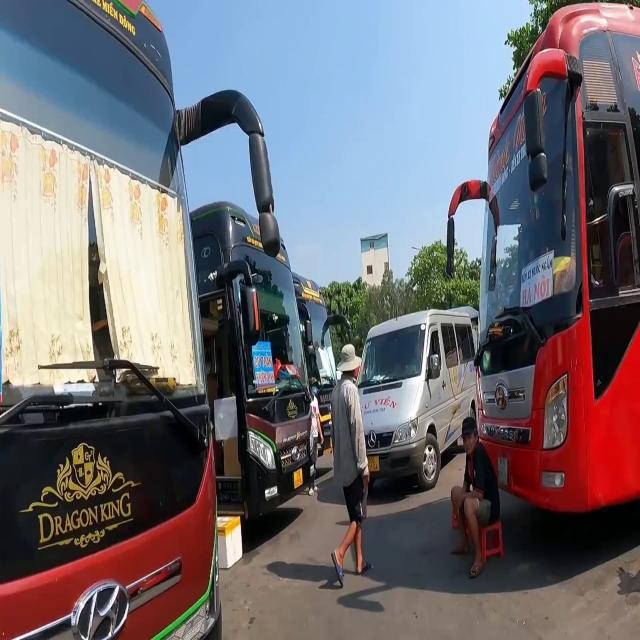bien_vang: (292, 469, 304, 489), (366, 455, 380, 471)
